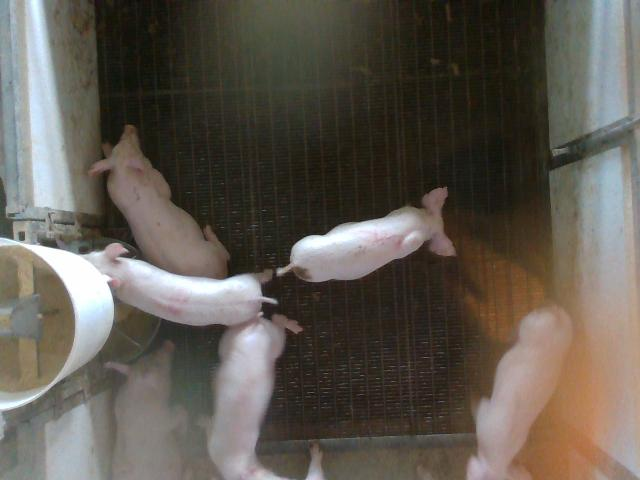pig-4: (84, 244, 275, 326)
pig-5: (278, 188, 456, 282)
